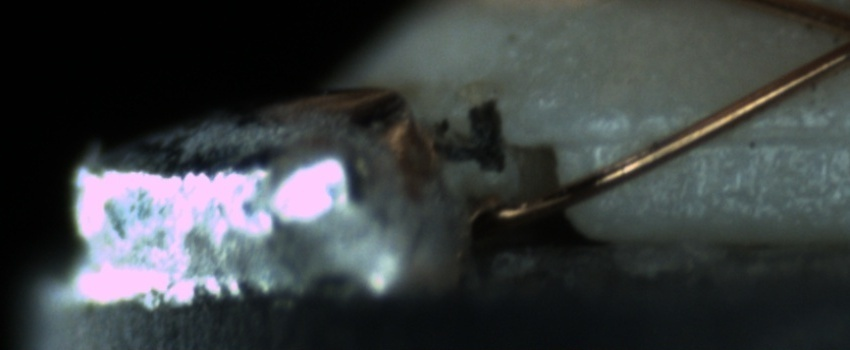DL: (580, 97, 842, 166)
